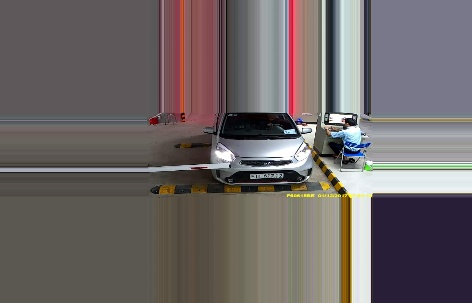plate: (249, 171, 284, 180)
